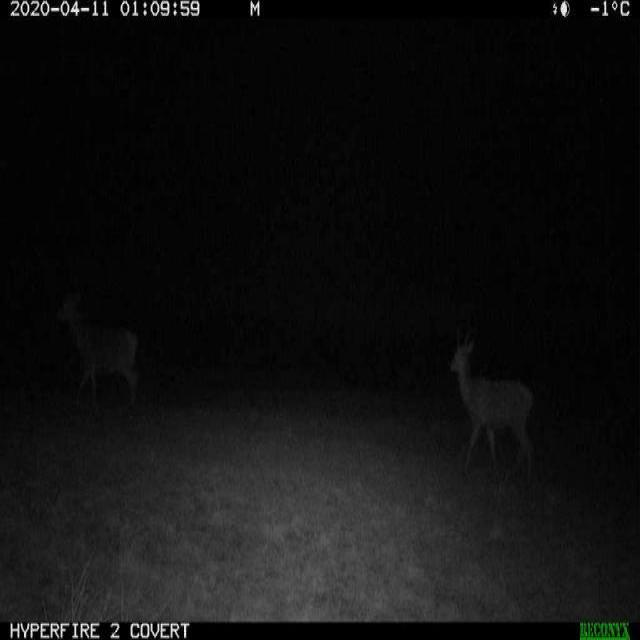deer: (442, 318, 548, 510), (42, 273, 150, 439)
